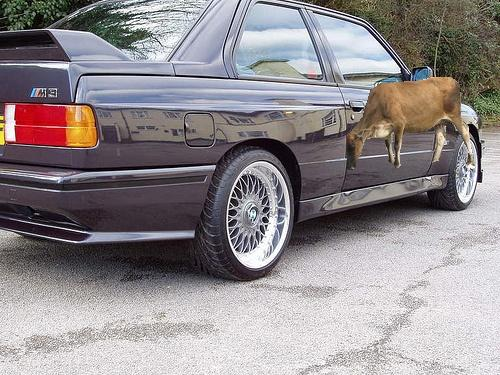tampered: (348, 78, 475, 170)
